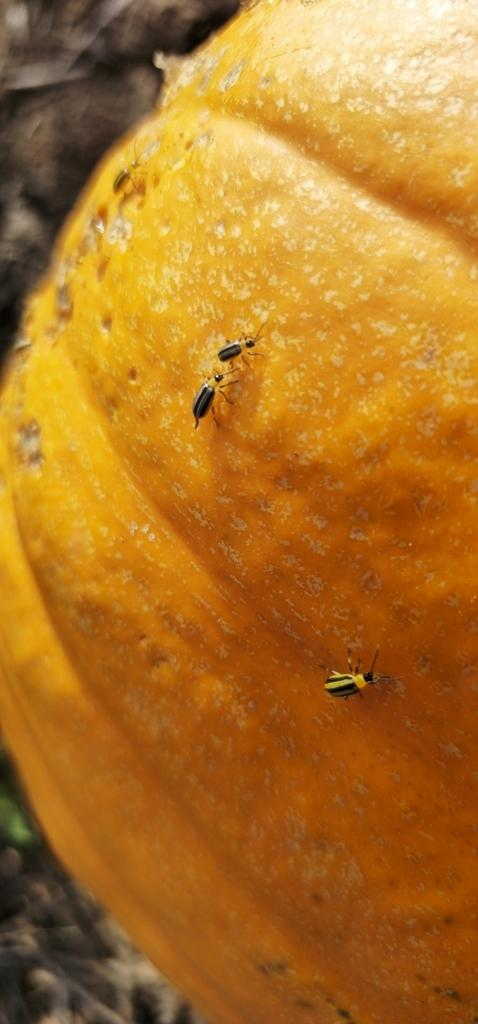potato_beetle: (304, 634, 405, 721), (175, 361, 249, 438), (206, 318, 283, 383)
